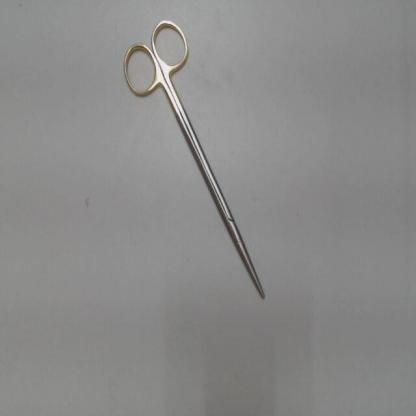7 Metzenbaum Scissors: (118, 11, 270, 309)
